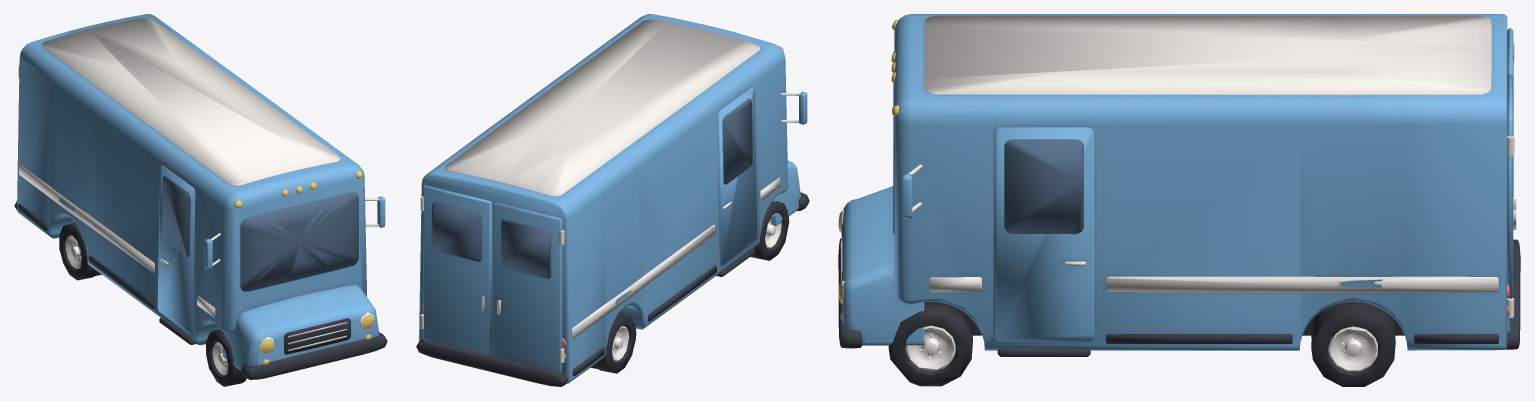
The model's file is delivery-truck.glb.
The picture shows the model from 3 angles, left to right: view 1: azimuth 30°, elevation 25°; view 2: azimuth 150°, elevation 25°; view 3: azimuth 270°, elevation 25°; orthographic projection. The views are drawn at different scales.
Parts seen in each view (by area): view 1: delivery-truck_body, delivery-truck_rear_windows, delivery-truck_wheel_fl, delivery-truck_headlights; view 2: delivery-truck_body, delivery-truck_rear_leaf, delivery-truck_rear_windows, delivery-truck_wheel_fl, delivery-truck_headlights; view 3: delivery-truck_body, delivery-truck_wheel_fl, delivery-truck_rear_windows, delivery-truck_headlights, delivery-truck_rear_leaf.
Boxes of the visible parts, bbox=[...] form: delivery-truck_body: bbox=[14, 14, 387, 379]; delivery-truck_rear_windows: bbox=[162, 175, 358, 291]; delivery-truck_wheel_fl: bbox=[59, 222, 246, 386]; delivery-truck_headlights: bbox=[65, 171, 374, 375]; delivery-truck_body: bbox=[416, 14, 809, 386]; delivery-truck_rear_leaf: bbox=[420, 185, 491, 354]; delivery-truck_rear_windows: bbox=[501, 98, 752, 278]; delivery-truck_wheel_fl: bbox=[591, 201, 789, 373]; delivery-truck_headlights: bbox=[612, 46, 783, 361]; delivery-truck_body: bbox=[838, 14, 1520, 356]; delivery-truck_wheel_fl: bbox=[888, 301, 1395, 386]; delivery-truck_rear_windows: bbox=[893, 51, 1513, 234]; delivery-truck_headlights: bbox=[838, 20, 1377, 371]; delivery-truck_rear_leaf: bbox=[1507, 75, 1516, 331].
Size of the model in its own units: 2.76 by 2.95 by 6.33.
7 materials, 2 textured.
